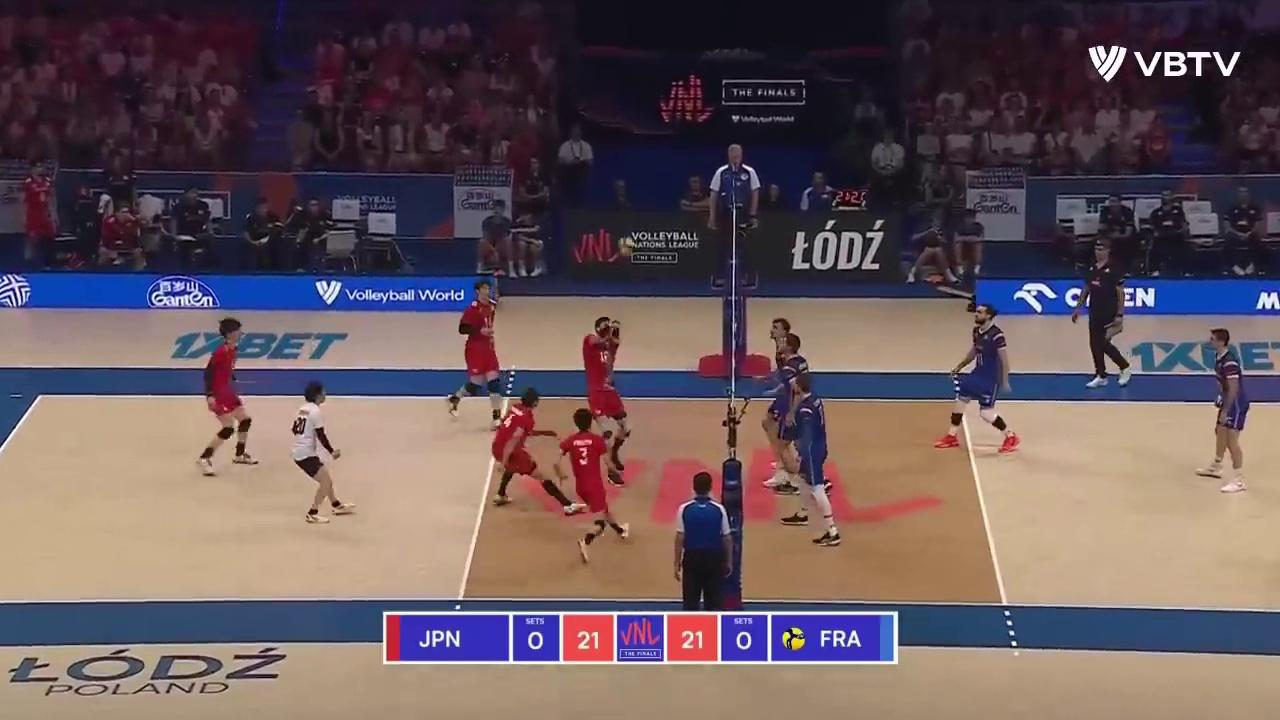ball: (619, 237, 635, 257)
